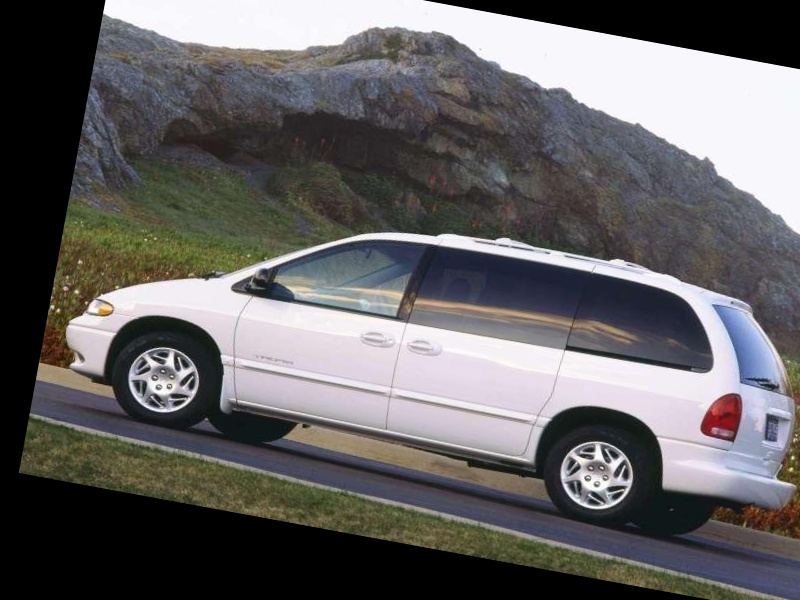car: (28, 127, 800, 600)
